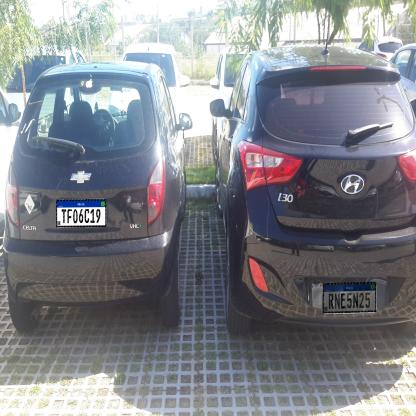PlacaM: (323, 282, 376, 313), (56, 199, 106, 227)
